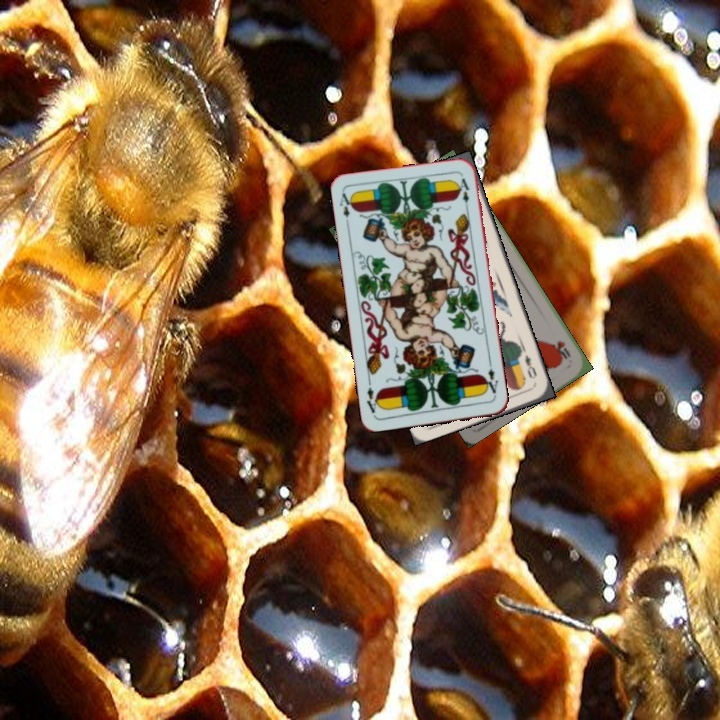EA: (335, 188, 356, 229), (480, 359, 501, 396)
EO: (521, 351, 539, 381)
HO: (550, 337, 574, 362)
